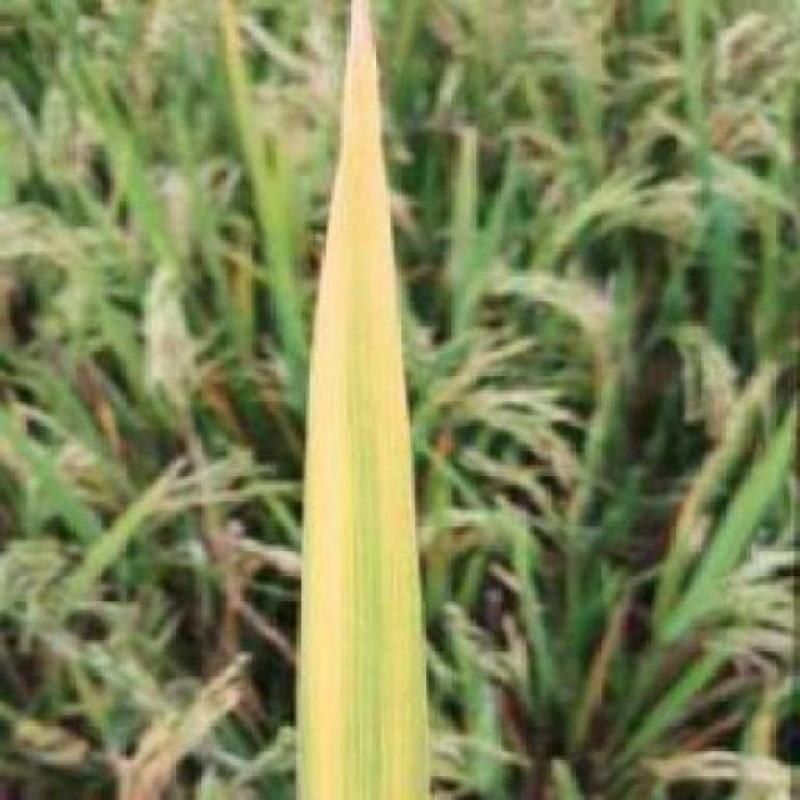Rice Tungro: (290, 2, 439, 798)
